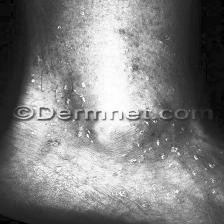Benign Marking or Mole: (151, 138, 207, 184), (209, 156, 217, 172)
